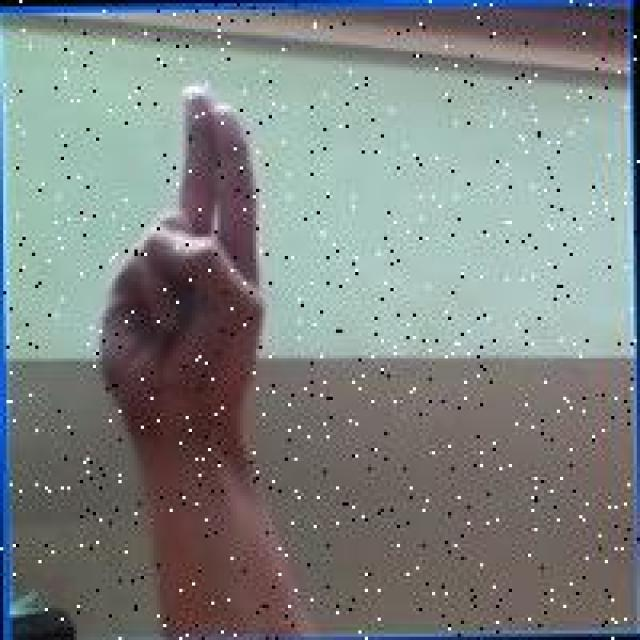U: (90, 83, 275, 470)
